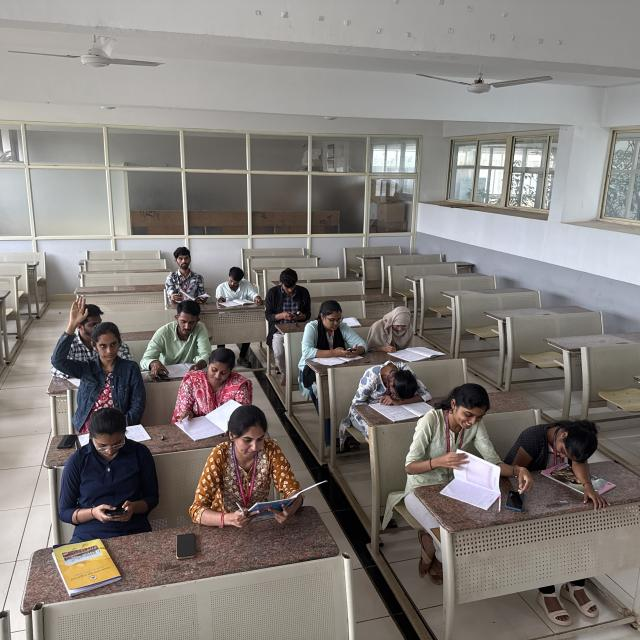Hand Rising: (53, 298, 143, 406)
Reading: (410, 381, 501, 498), (176, 348, 252, 431), (164, 246, 213, 304)
Sleeping: (499, 416, 627, 472), (358, 360, 431, 404)
Using Phone: (74, 410, 155, 528), (298, 296, 372, 365), (269, 270, 311, 324)
Writing: (194, 406, 288, 525), (371, 292, 442, 363), (215, 265, 262, 305)
